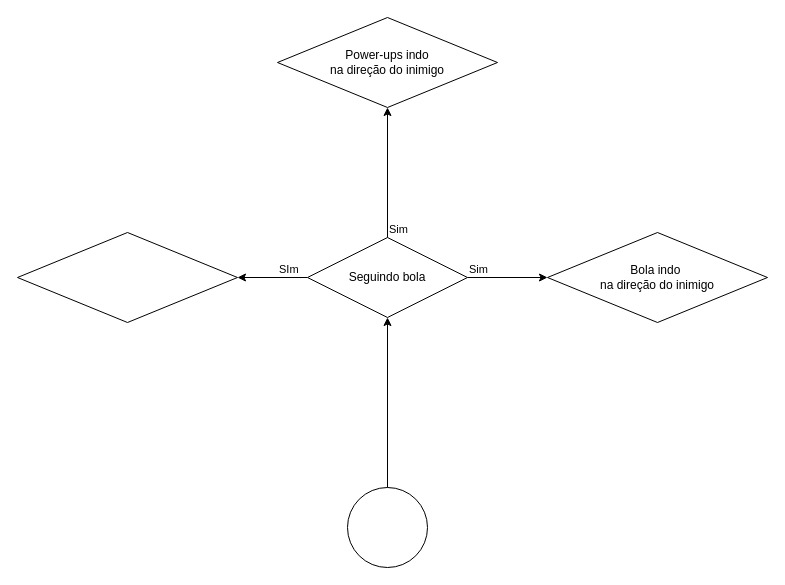
Image size: 785x585. Some labels were removed from this diagram. The box of each missing label's shape, as (x1, y1, x2, y2) in pixels:
Bola indo na direção do player: (16, 232, 238, 322)
Start Game: (346, 486, 428, 568)
